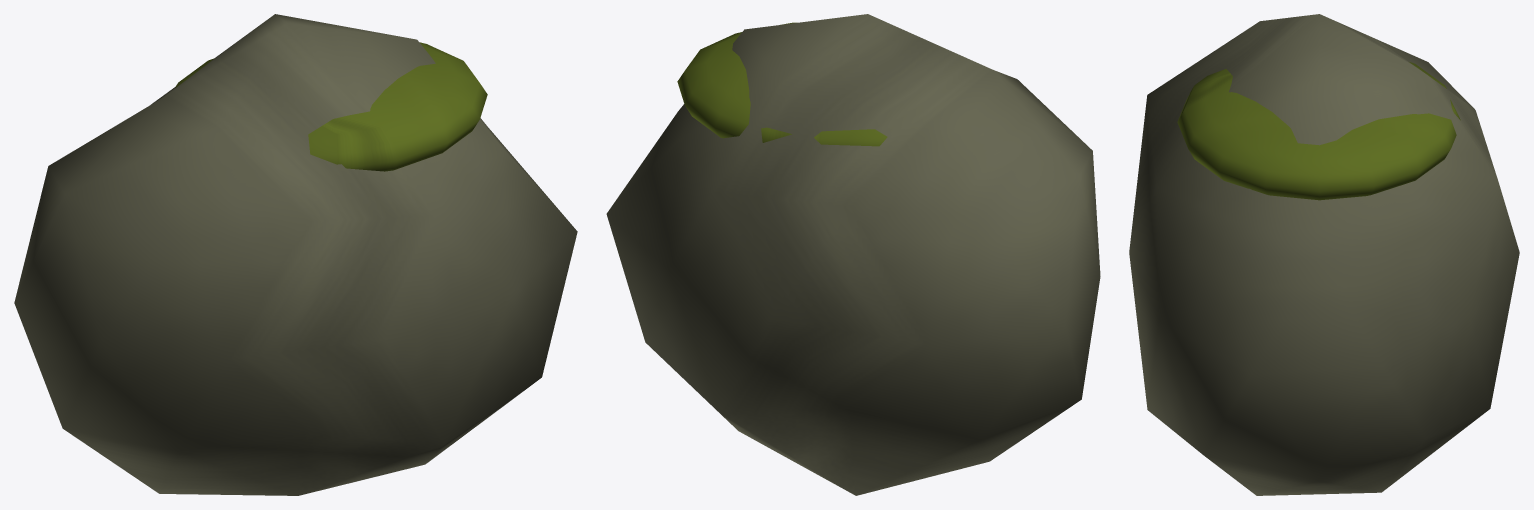
File: Rock_1.fbx
3 renders of one model, left to right at view 1: azimuth 30°, elevation 25°; view 2: azimuth 150°, elevation 25°; view 3: azimuth 270°, elevation 25°, orthographic. The views are drawn at different scales.
Visible parts, largest first — view 1: Rock_1; view 2: Rock_1; view 3: Rock_1.
Part boxes in pixels (x1,y1,x2,y2): Rock_1: (14, 14, 577, 495); Rock_1: (606, 14, 1100, 495); Rock_1: (1129, 14, 1519, 495).
Size of the model in its own units: 78.34 by 68.8 by 54.9.
Materials: 1 (1 with a texture image).
